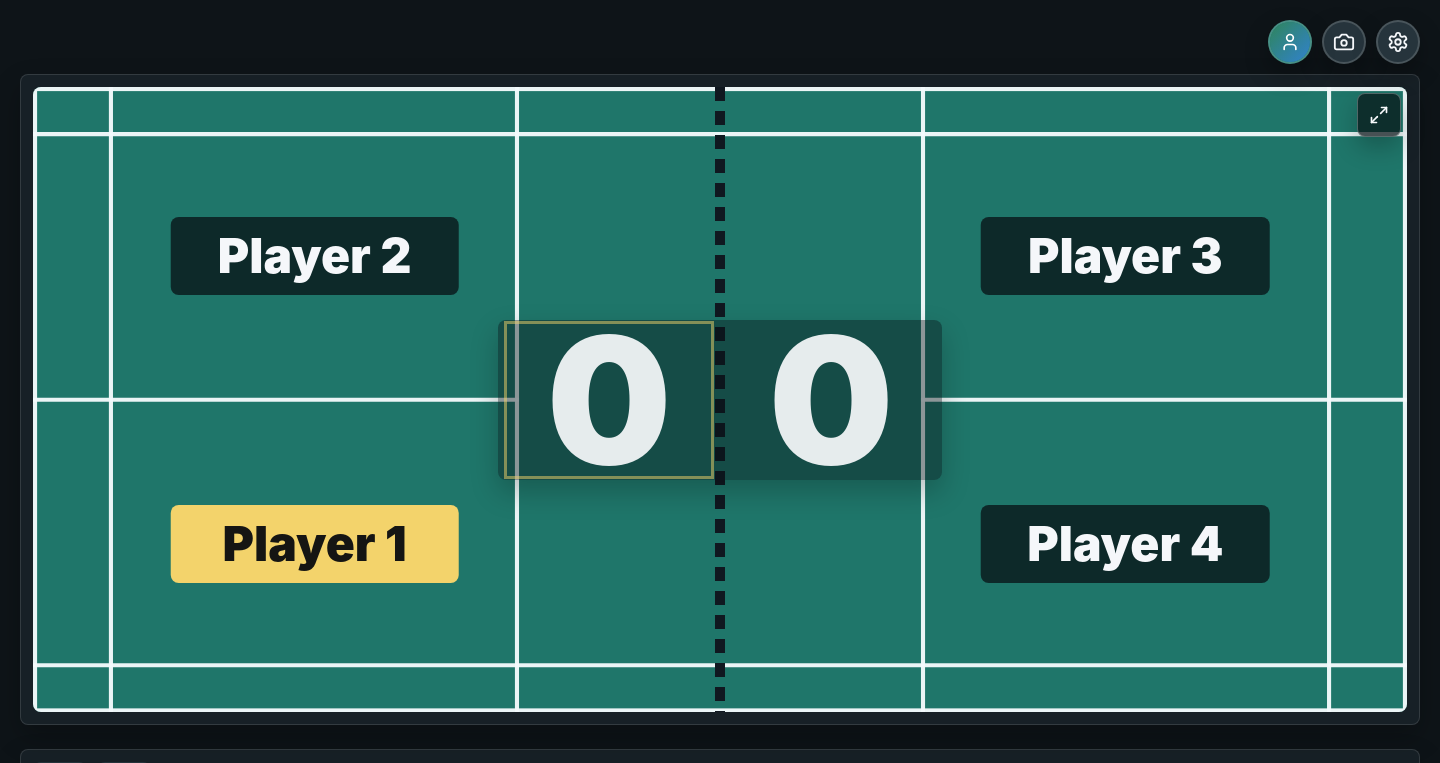
Test: App › shows a sign-in prompt instead of session setup when not signed in
Step 1. Click the button named "settings menu" → (1398, 42), box left=1376, top=20, right=1420, bottom=64
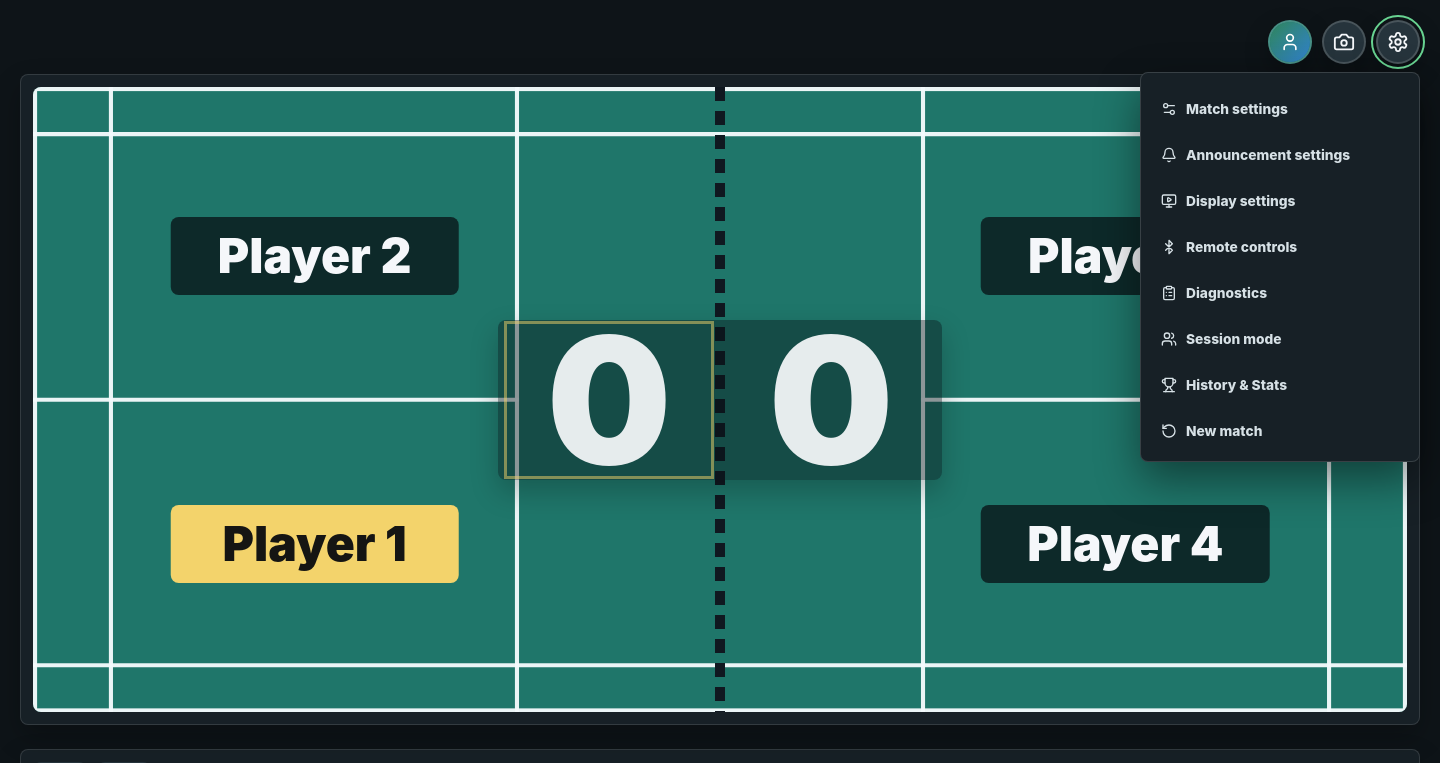
Step 2. Click the menu item "Session mode" → (1280, 339), box left=1151, top=319, right=1409, bottom=359
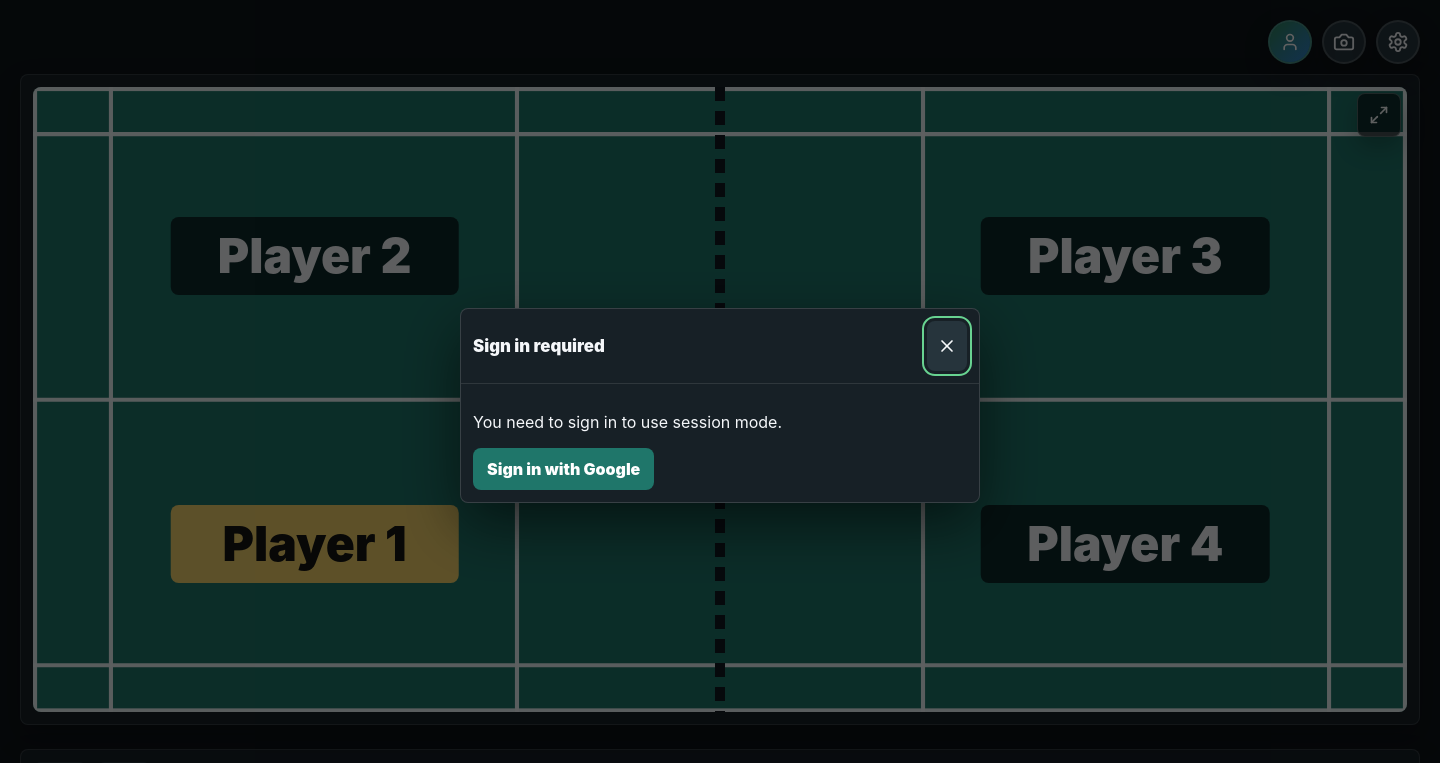
expect the dialog "Sign in required" is shown: met, box left=460, top=308, right=980, bottom=502
